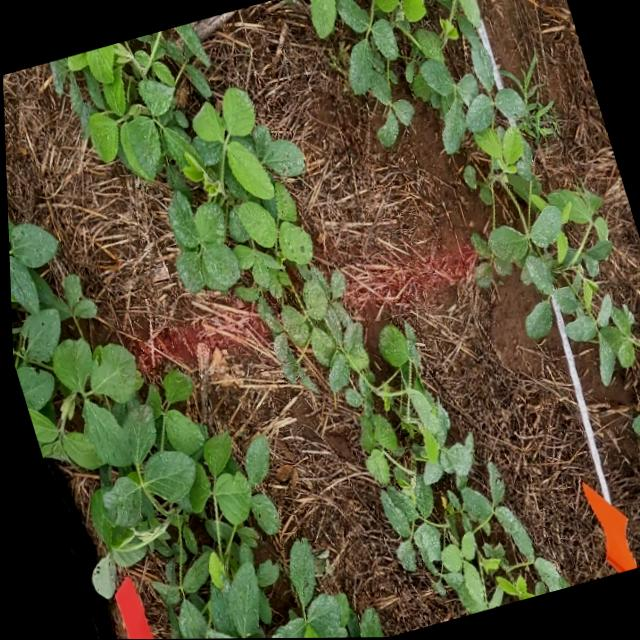grassy_weed: (499, 54, 556, 146)
soy_plant: (50, 24, 564, 615), (6, 220, 376, 639), (313, 0, 640, 403)
